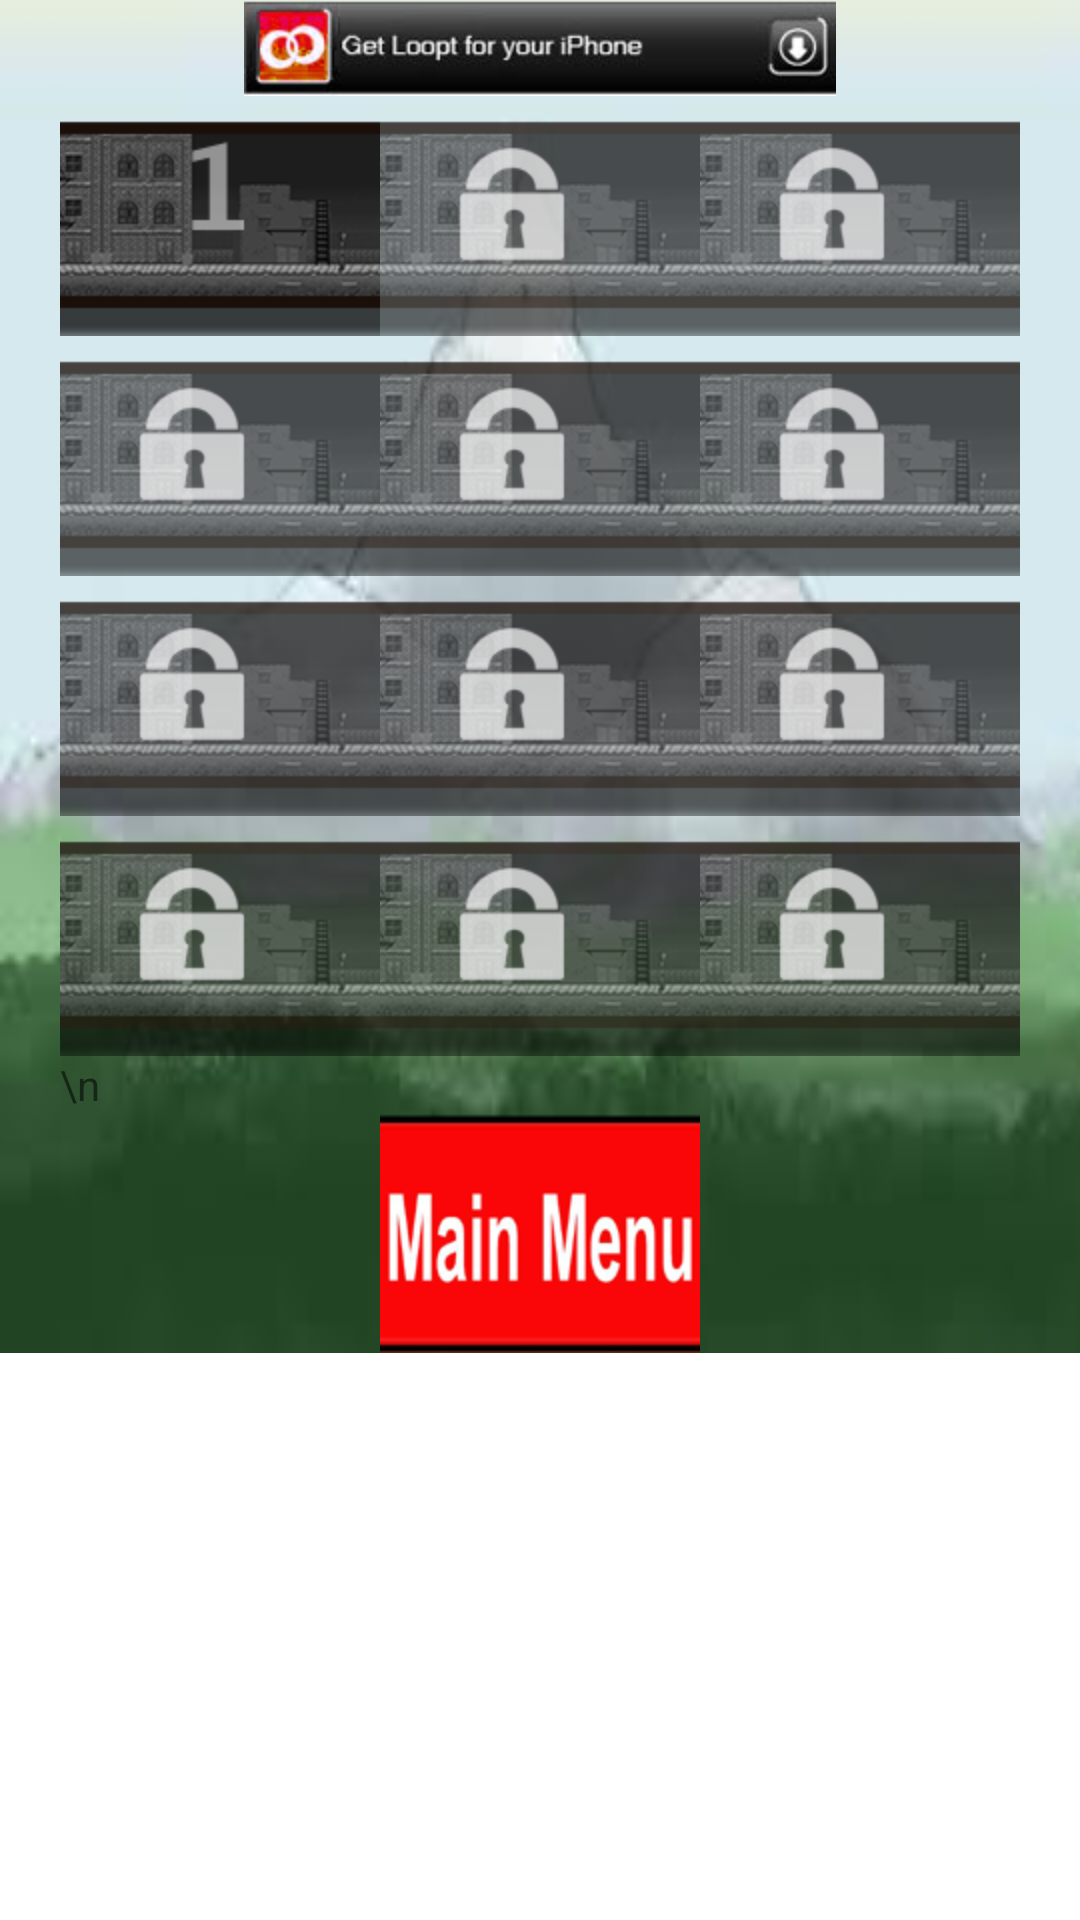

Where to tap for icons on this 1080w x 1920h app screen, as point (x, y):
leveloneorignal: point (220, 228)
